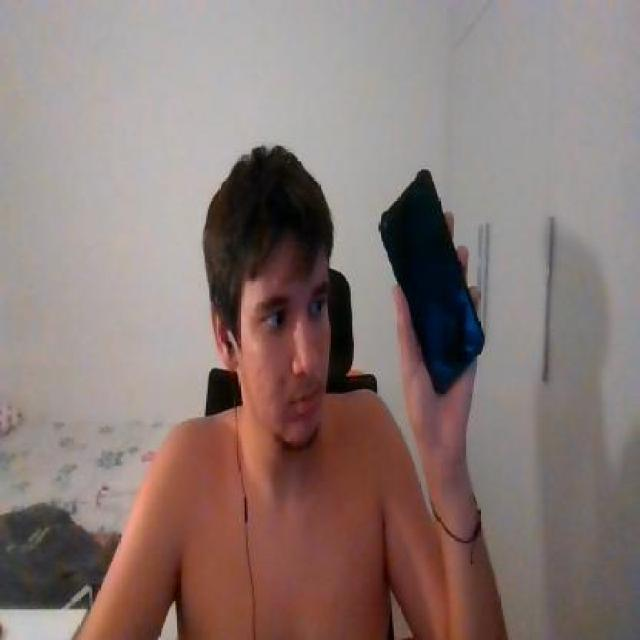phone: (378, 168, 486, 396)
